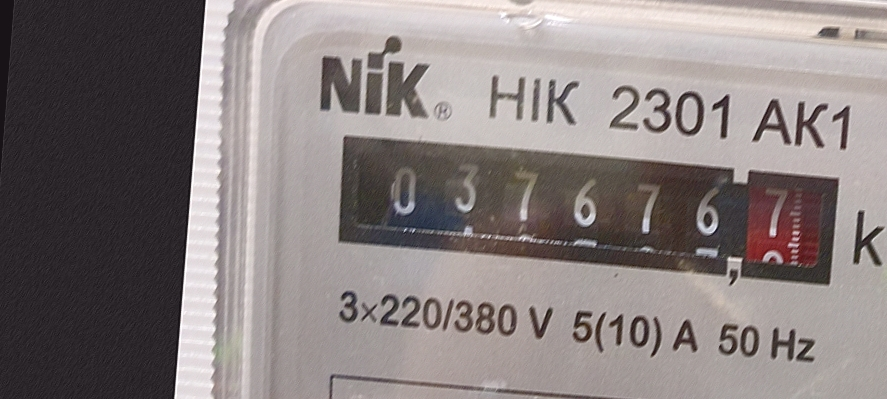0: (386, 160, 424, 217)
3: (450, 157, 482, 215)
6: (568, 172, 604, 228), (691, 181, 726, 237)
7: (629, 178, 665, 238), (507, 165, 542, 224), (759, 182, 791, 240)
screen: (319, 116, 857, 304)
